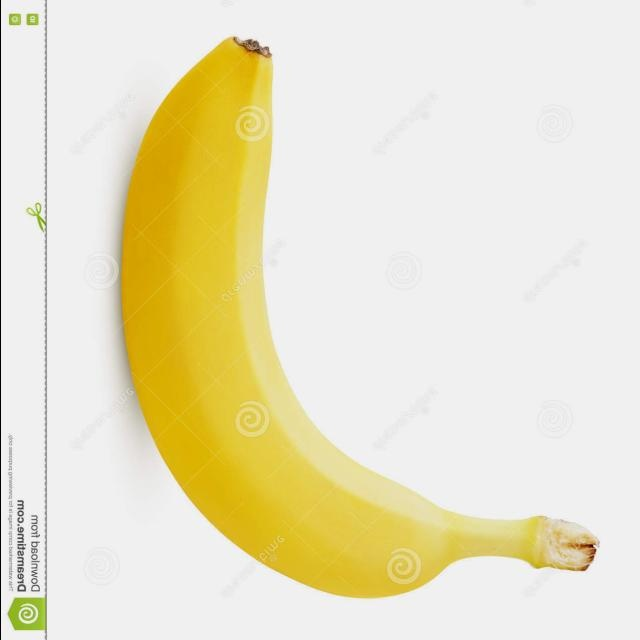agrume: (115, 36, 602, 596)
